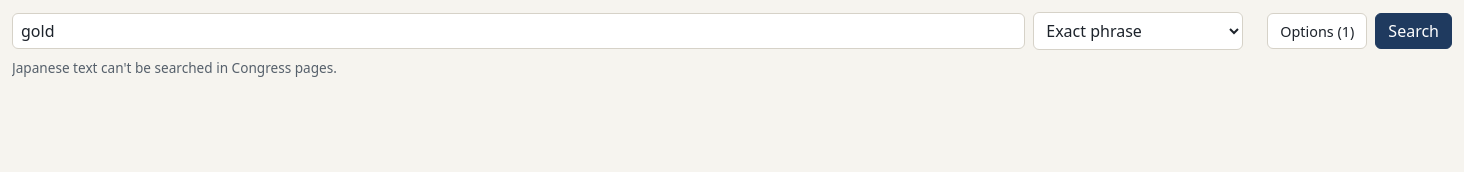
Test: SearchBar's name (#229) › names the corpus the form searches
Check: the form named "Search Congress" is shown, box [12, 12, 1452, 77]
Click the button "Options (1)". click: (1317, 31)
box: [1267, 13, 1367, 49]
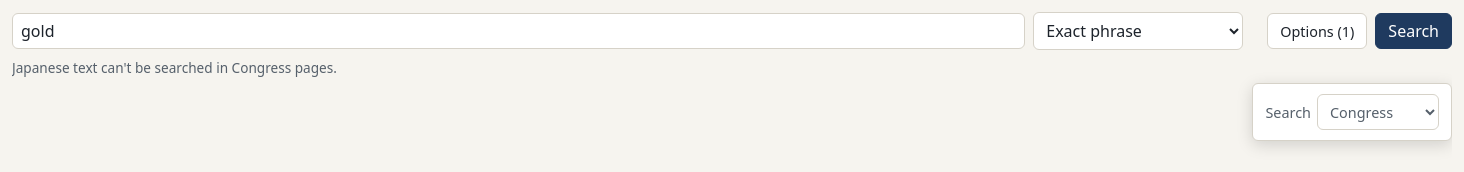
Select "Newspapers" in the dropdown labelled "Search". click: (1378, 112)
box: [1317, 94, 1439, 130]
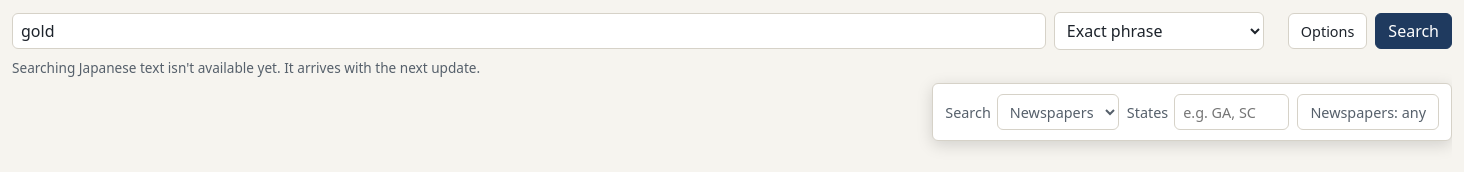
Check: the form named "Search newspapers" is shown, box [12, 12, 1452, 77]
